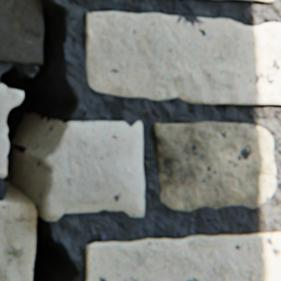brick: (85, 11, 280, 104), (152, 121, 274, 210), (85, 232, 280, 280), (0, 200, 36, 280), (0, 0, 43, 64), (247, 0, 272, 2)
broken_brick: (37, 121, 143, 219), (0, 83, 22, 176)
crack: (0, 0, 70, 280)
